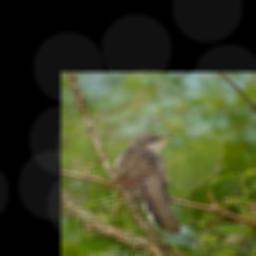Cuckoo: (114, 132, 182, 234)
